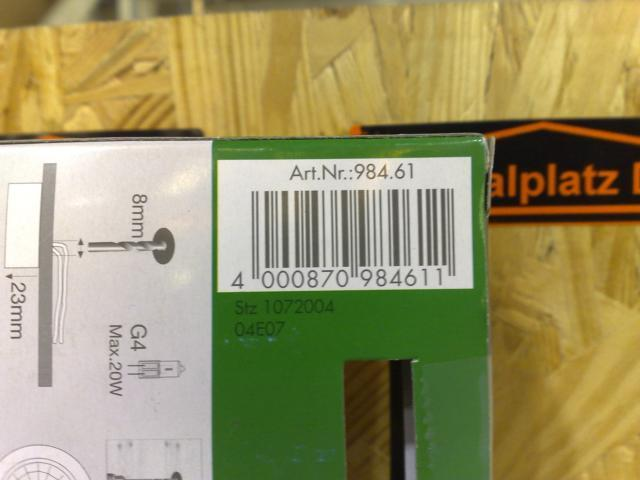Barcode: (226, 187, 464, 293)
